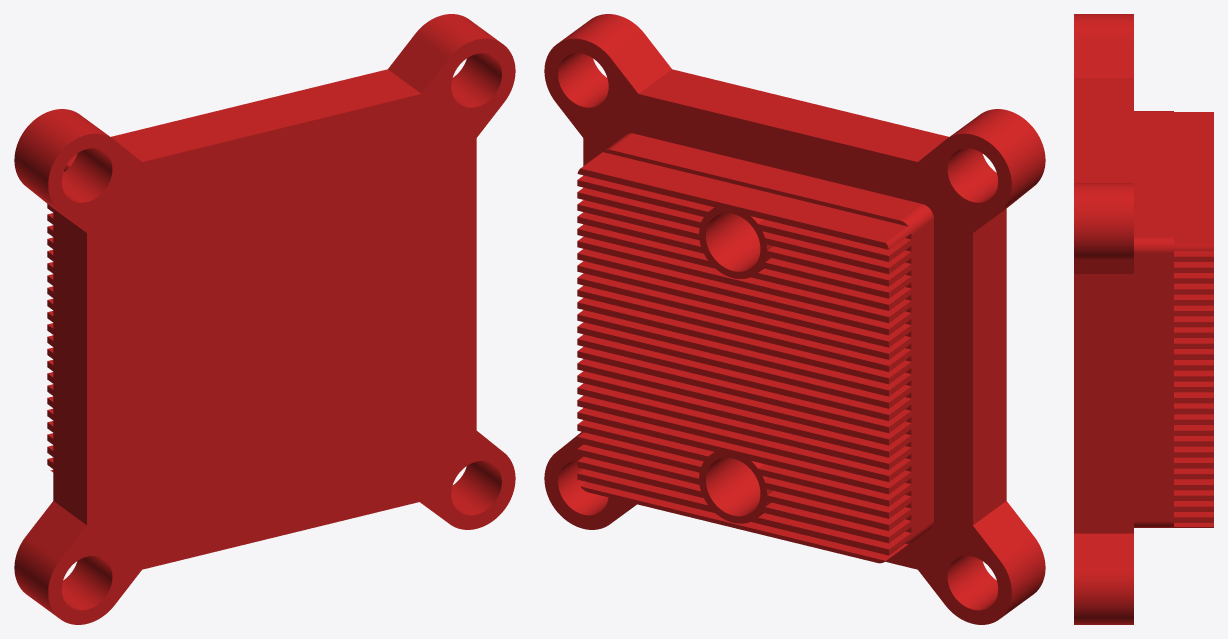
File: 1_colored.obj
3 renders of one model, left to right at view 1: azimuth 30°, elevation 25°; view 2: azimuth 150°, elevation 25°; view 3: azimuth 270°, elevation 25°, orthographic. The views are drawn at different scales.
Size of the model in its own units: 0.12 by 0.12 by 0.035.
